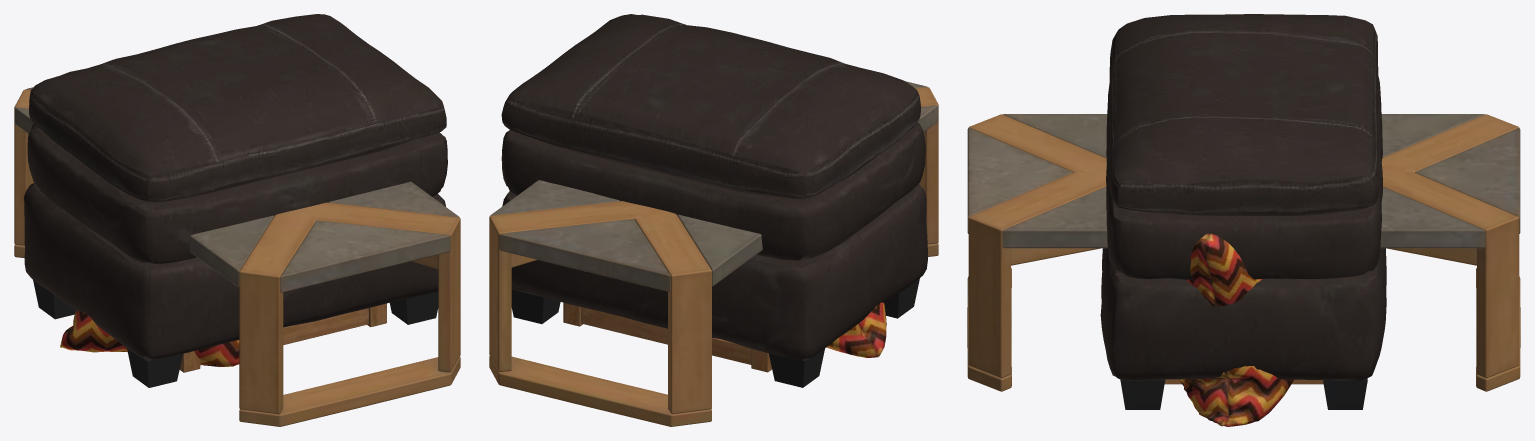
The model's file is lounge-props.glb.
The picture shows the model from 3 angles, left to right: view 1: azimuth 30°, elevation 25°; view 2: azimuth 150°, elevation 25°; view 3: azimuth 270°, elevation 25°; orthographic projection. The views are drawn at different scales.
Parts seen in each view (by area): view 1: Ottoman_01, modern_coffee_table_01, throw_pillows_01_pillow01, side_table_01; view 2: Ottoman_01, modern_coffee_table_01, side_table_01, throw_pillows_01_pillow01; view 3: Ottoman_01, modern_coffee_table_01, throw_pillows_01_pillow02.
Boxes of the visible parts, bbox=[...] form: Ottoman_01: bbox=[24, 14, 447, 387]; modern_coffee_table_01: bbox=[14, 87, 460, 426]; throw_pillows_01_pillow01: bbox=[60, 311, 239, 366]; side_table_01: bbox=[179, 303, 386, 372]; Ottoman_01: bbox=[501, 14, 927, 387]; modern_coffee_table_01: bbox=[489, 81, 938, 426]; side_table_01: bbox=[563, 302, 771, 372]; throw_pillows_01_pillow01: bbox=[826, 302, 886, 357]; Ottoman_01: bbox=[1100, 14, 1386, 409]; modern_coffee_table_01: bbox=[967, 114, 1520, 391]; throw_pillows_01_pillow02: bbox=[1179, 233, 1293, 426].
Bounding box in the file's own units: 0.9401 × 0.6266 × 1.2.
6 materials, 6 textured.
